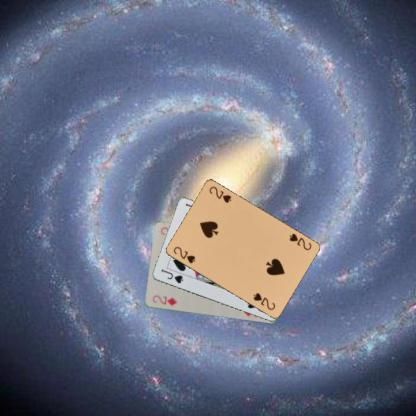2d: (150, 292, 178, 307)
2s: (286, 231, 313, 251), (170, 244, 196, 264)
Js: (158, 266, 184, 285)
